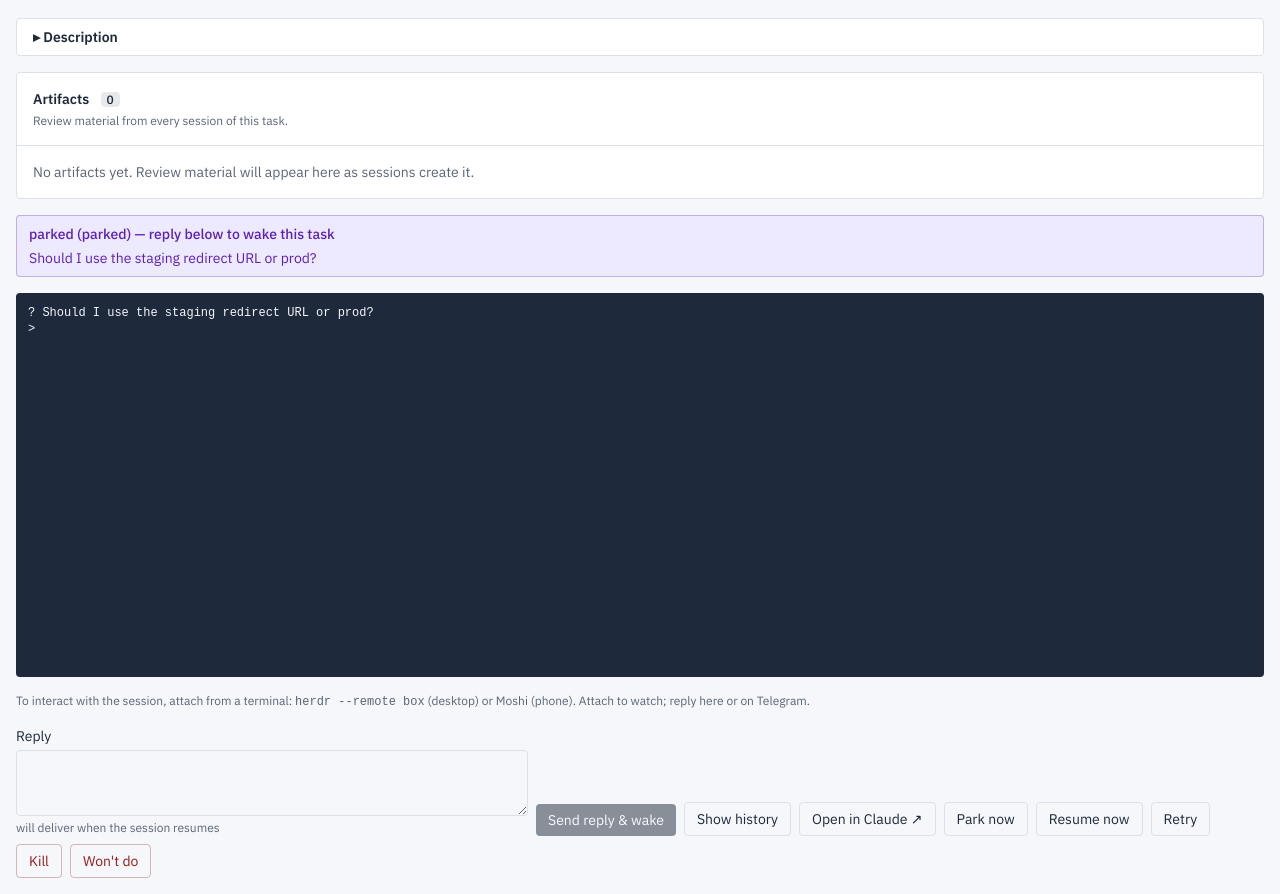
Test: arming won't-do can be backed out without firing
(page scrolled)
What coordinates should you click on to do the following:
click the button "Won't do"
I would click on:
 (111, 861)
Its box is [70, 844, 151, 878].
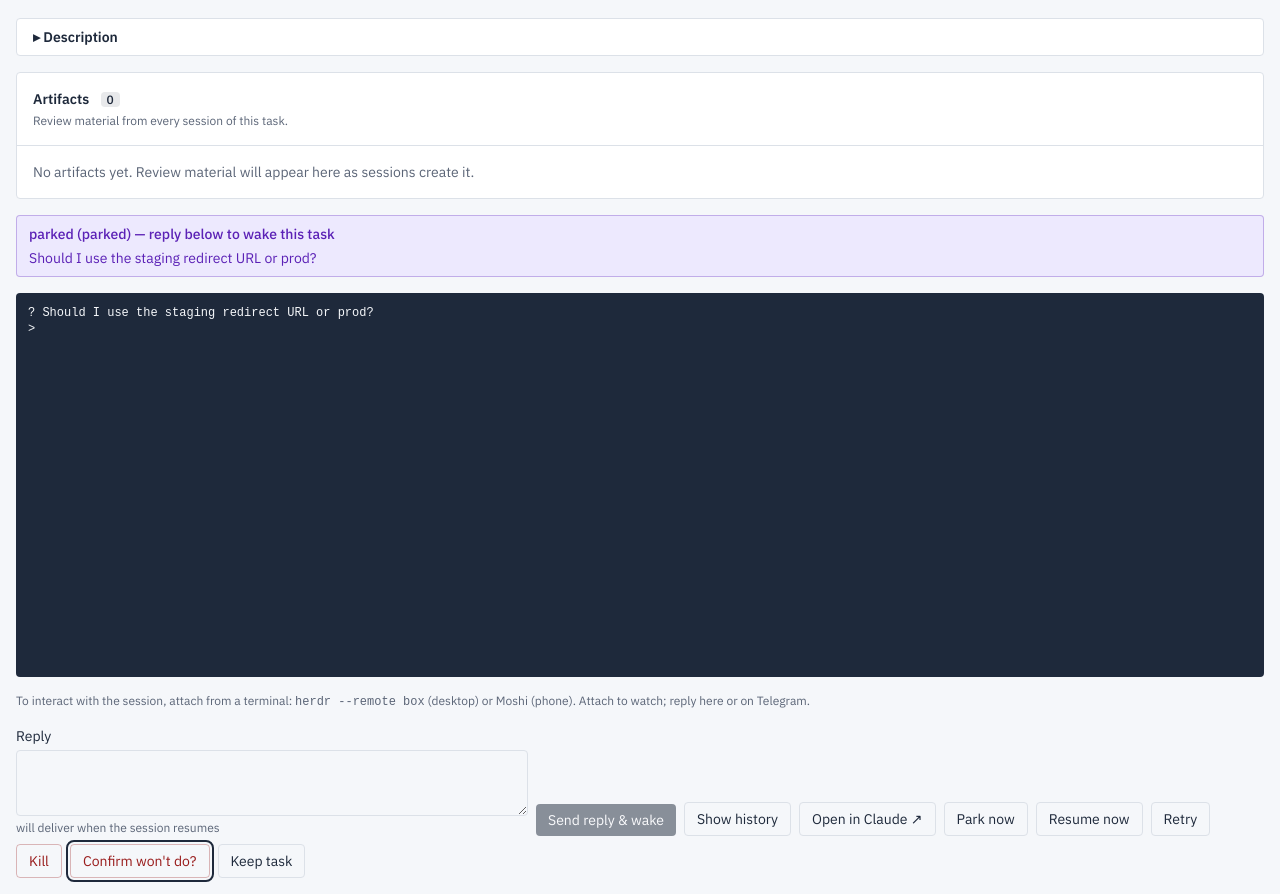
What coordinates should you click on to do the following:
click the button "Keep task"
I would click on:
 (261, 861)
Its box is [218, 844, 305, 878].
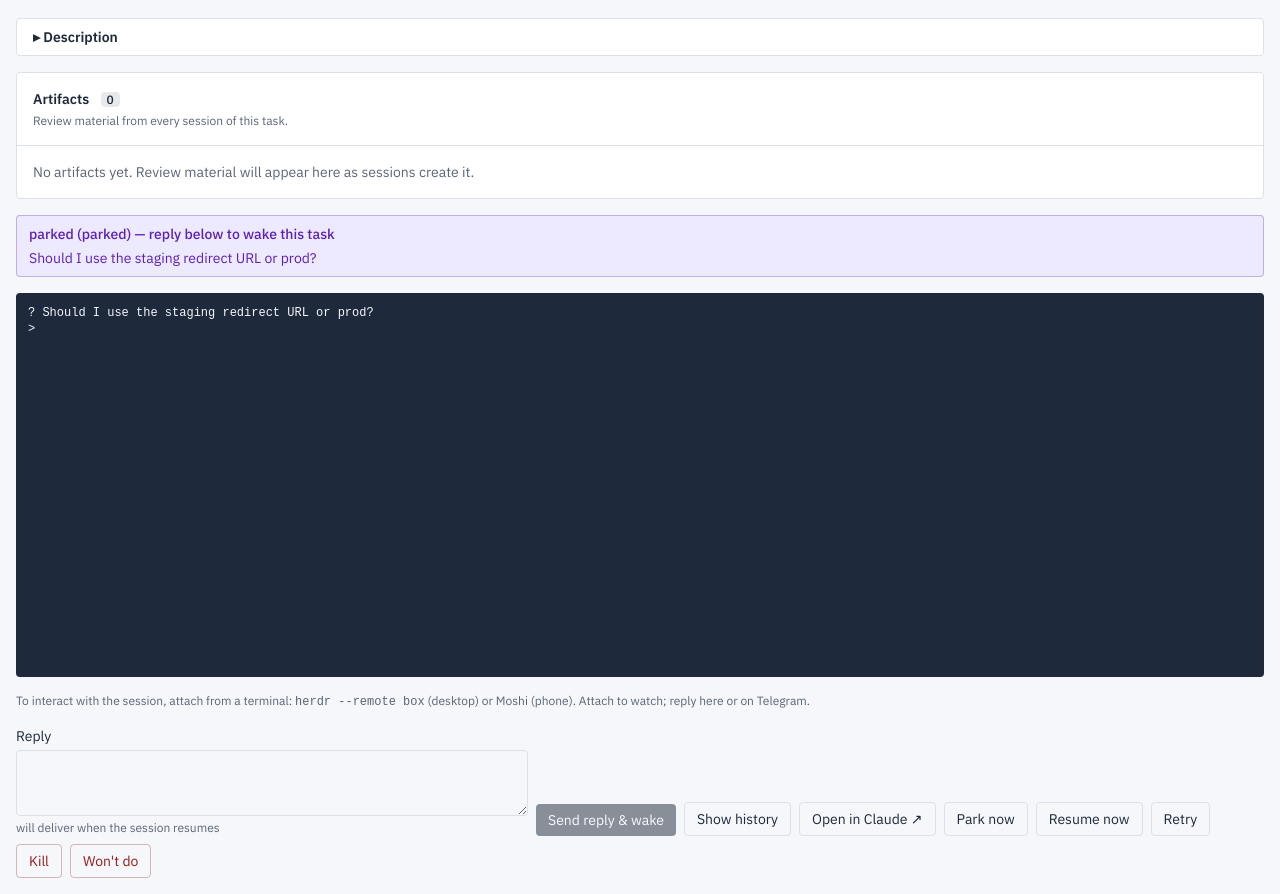
expect the button "Confirm won't do?" is gone: met
